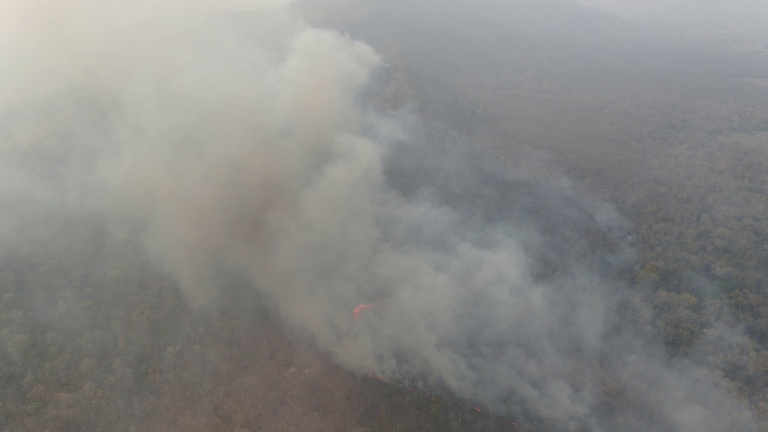fire: (358, 366, 417, 394), (474, 401, 529, 430), (348, 297, 389, 326)
smoke: (129, 28, 496, 390), (421, 229, 697, 430)
